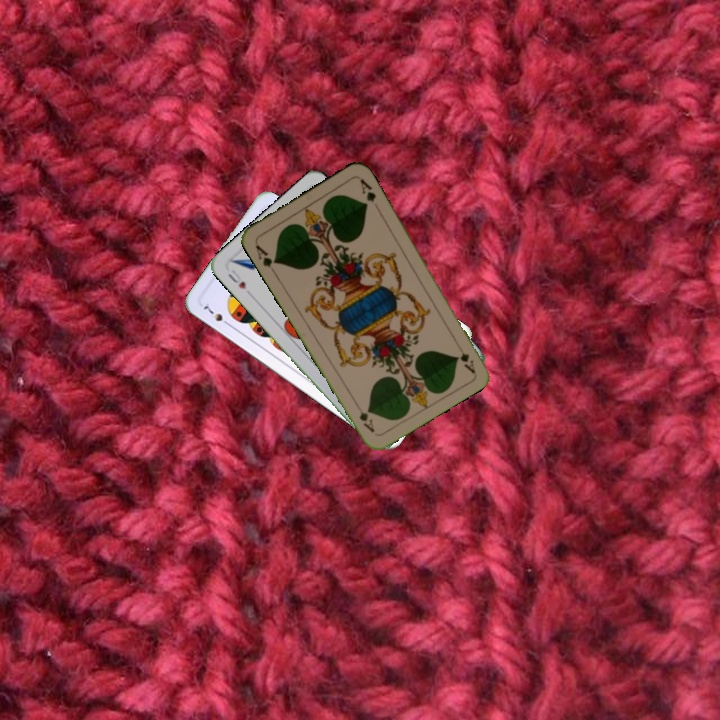GA: (452, 338, 477, 375), (251, 241, 280, 270)
HU: (224, 266, 249, 292)
S7: (199, 299, 233, 329)
